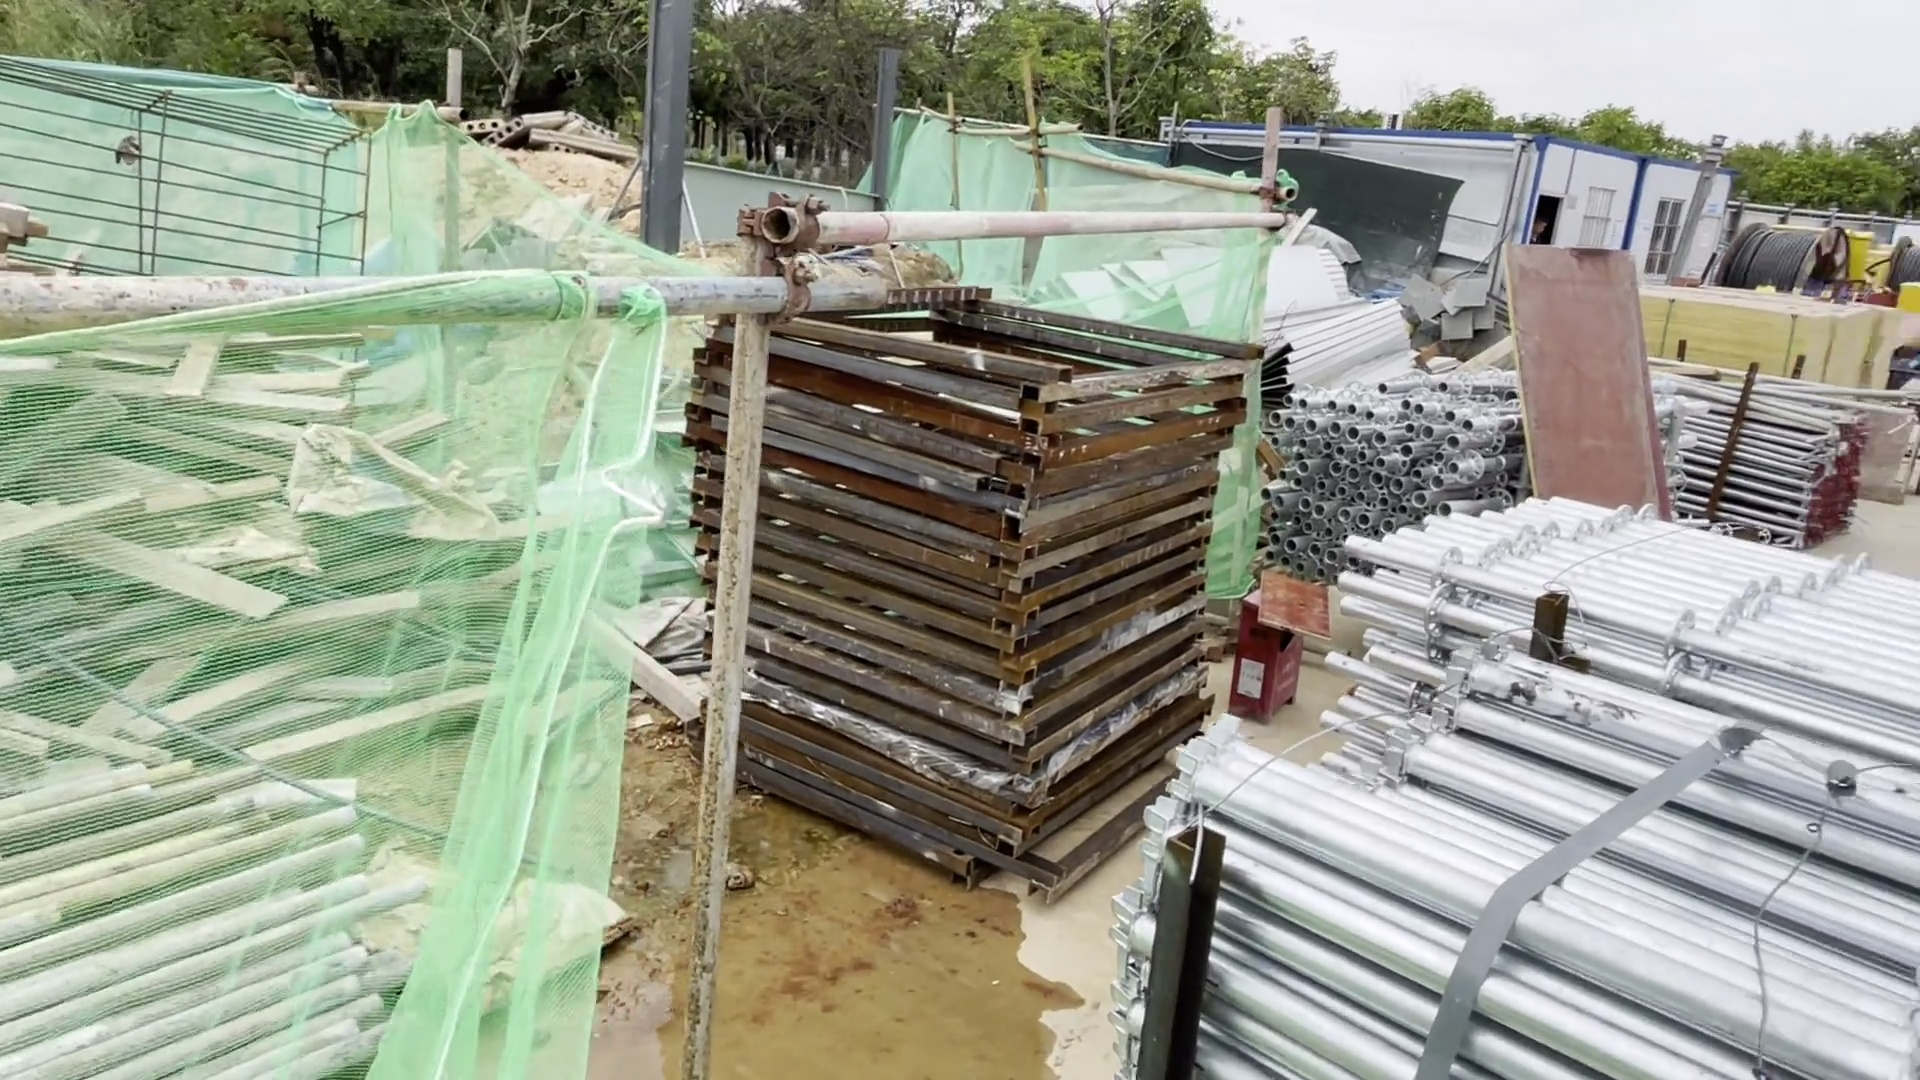scaffold: (1112, 719, 1898, 1080), (1357, 487, 1920, 789), (1234, 361, 1538, 538), (1659, 349, 1869, 550)
